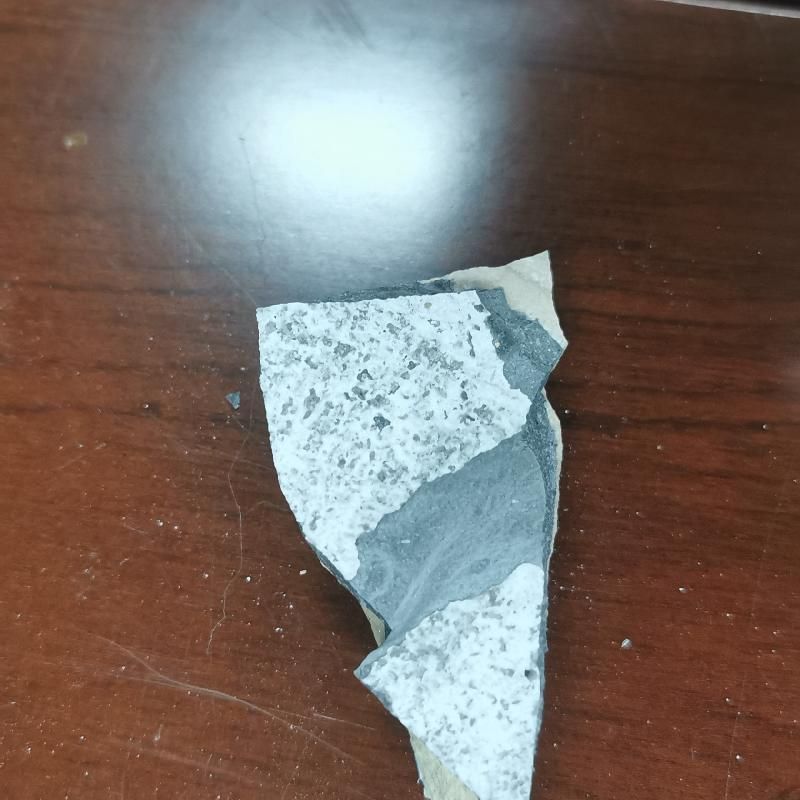tile: (244, 246, 570, 800)
